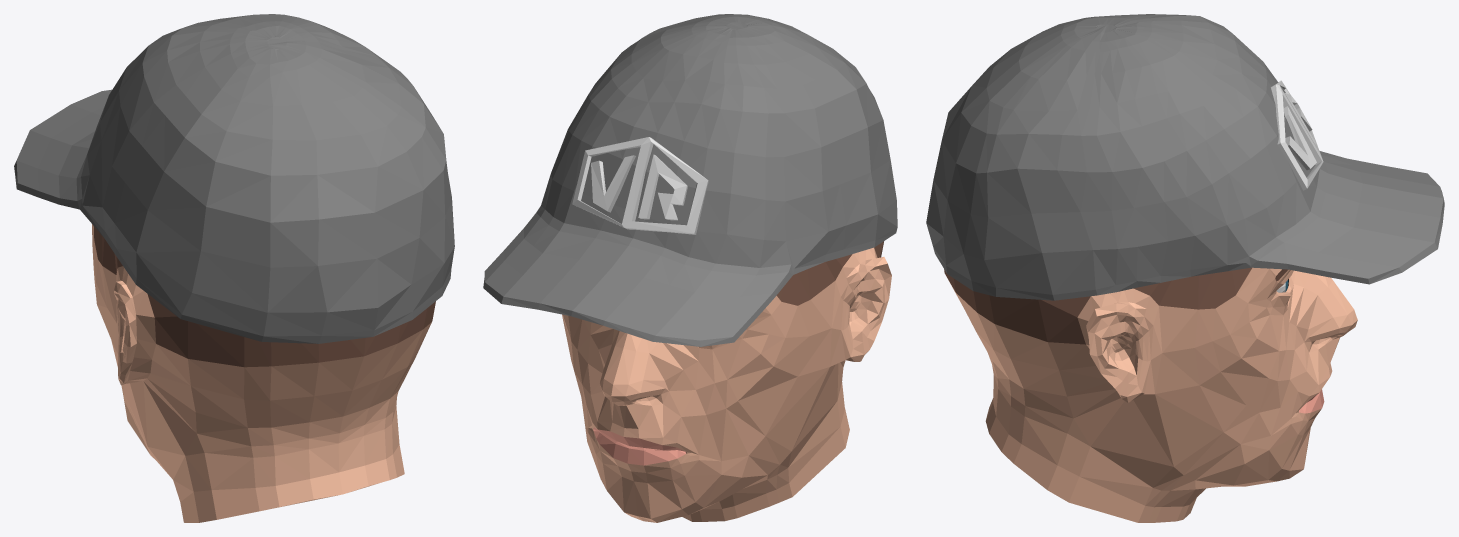
The model's file is Cap_2.dae.
The picture shows the model from 3 angles, left to right: view 1: azimuth 30°, elevation 25°; view 2: azimuth 150°, elevation 25°; view 3: azimuth 270°, elevation 25°; orthographic projection. The views are drawn at different scales.
Parts seen in each view (by area): view 1: Template01_007_001; view 2: Template01_007_001; view 3: Template01_007_001.
Part boxes in pixels (x1=…): Template01_007_001: x1=14, y1=14, x2=454, y2=522; Template01_007_001: x1=483, y1=14, x2=897, y2=522; Template01_007_001: x1=926, y1=14, x2=1444, y2=522.
Size of the model in its own units: 0.214 by 0.3116 by 0.3201.
